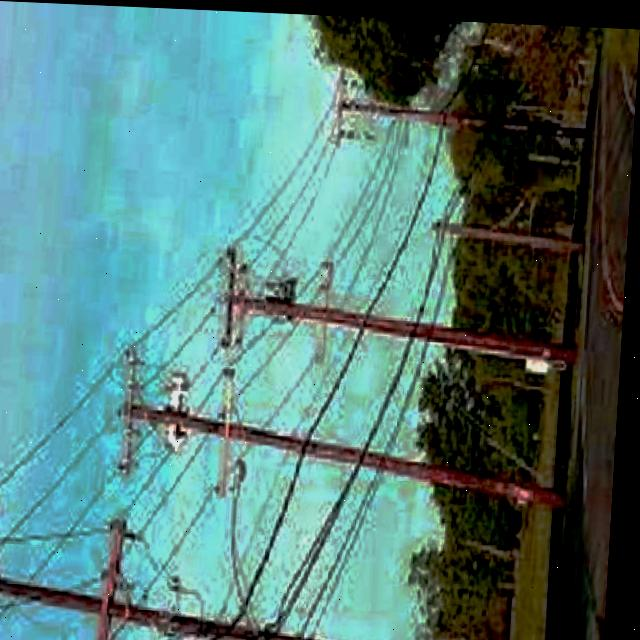poles: (112, 340, 572, 507), (0, 512, 458, 640), (213, 237, 571, 374), (328, 64, 595, 161)
wires: (214, 22, 492, 640), (253, 89, 523, 640), (136, 96, 347, 404), (0, 341, 121, 584)
